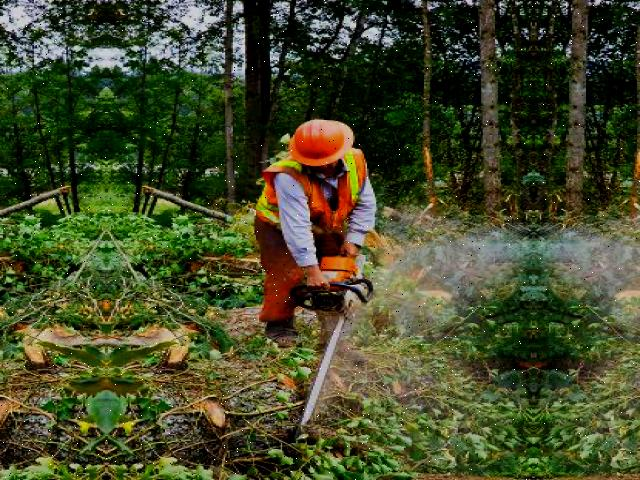Helmet: (285, 112, 360, 172)
